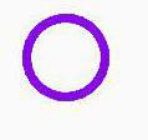RadioButton: (1, 1, 147, 139)
